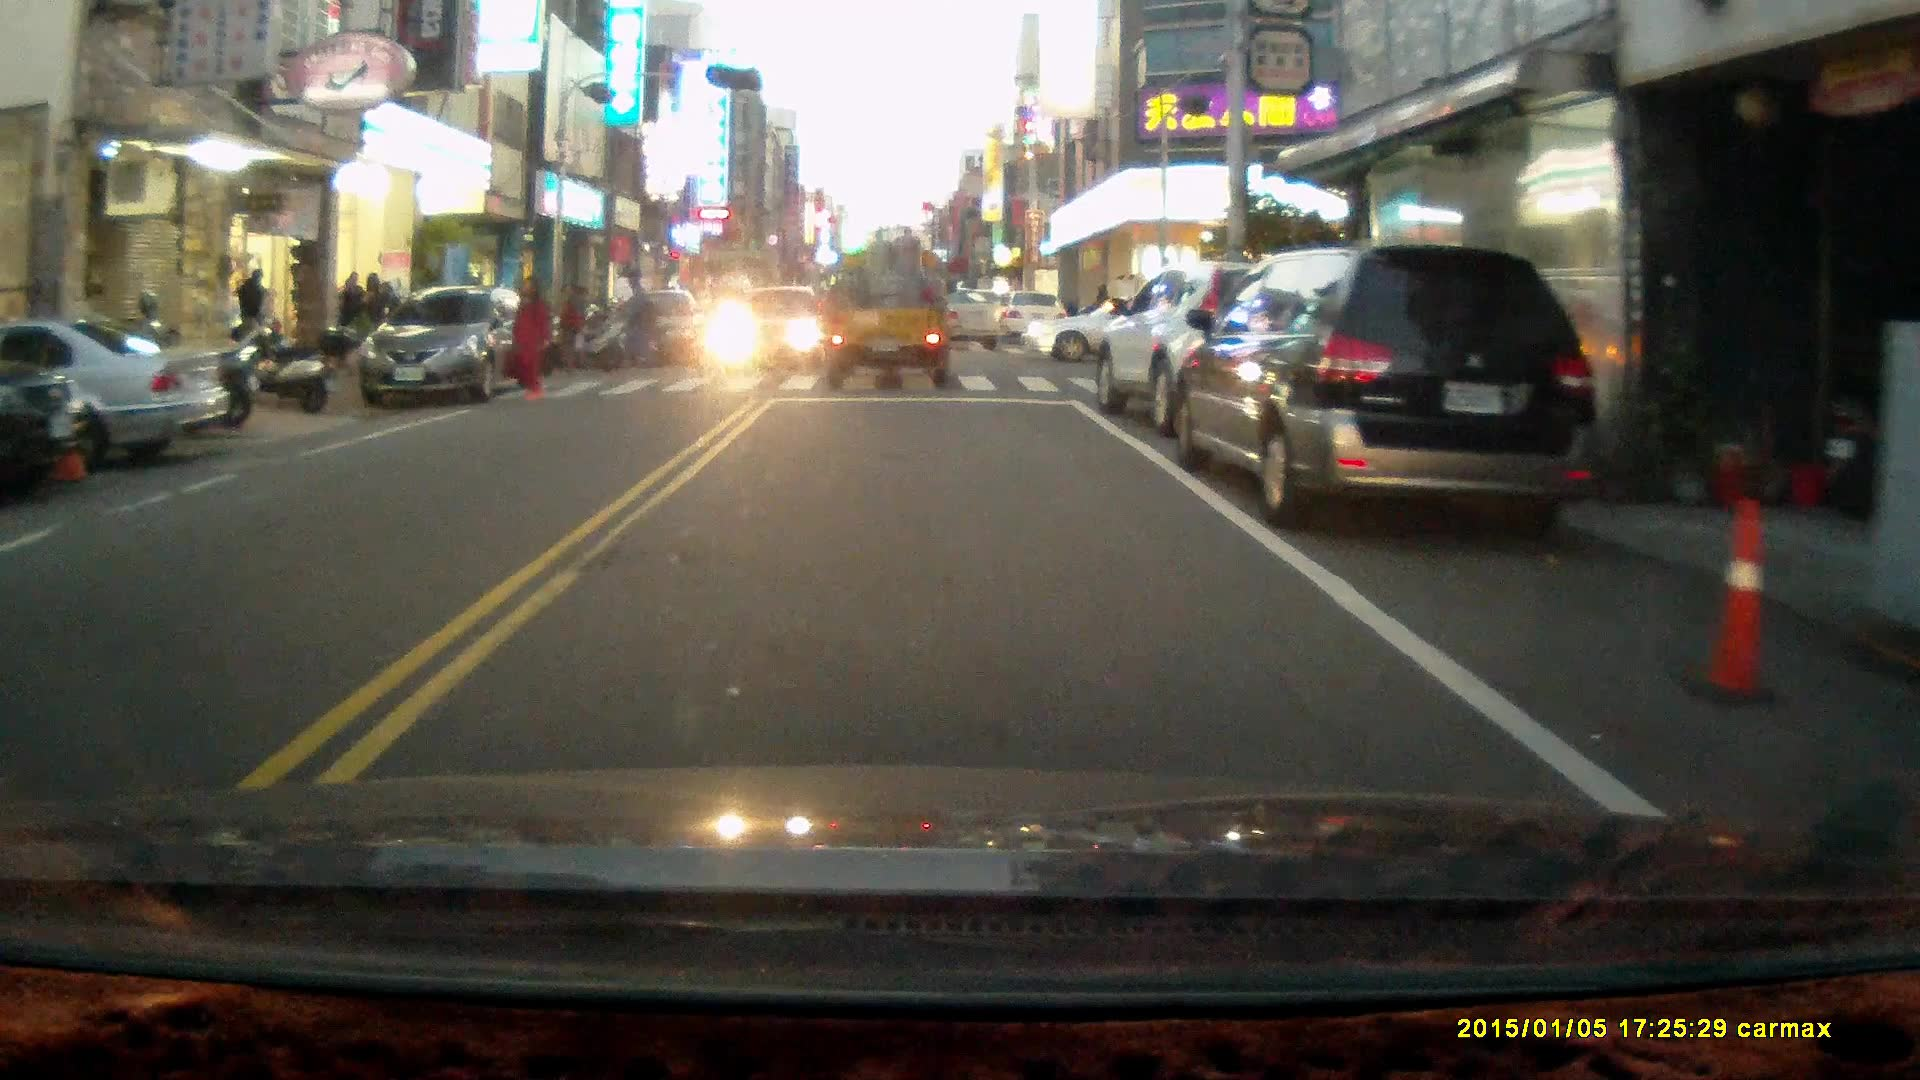pedestrian: (504, 270, 554, 402), (615, 267, 665, 371), (236, 265, 276, 362), (553, 283, 591, 377)
vehicle: (1176, 244, 1601, 543), (1091, 257, 1390, 445), (1, 318, 236, 478), (819, 228, 964, 394), (360, 287, 544, 410), (1023, 292, 1244, 368), (1, 365, 91, 485), (710, 284, 824, 365), (597, 292, 710, 375), (893, 291, 1007, 358)
